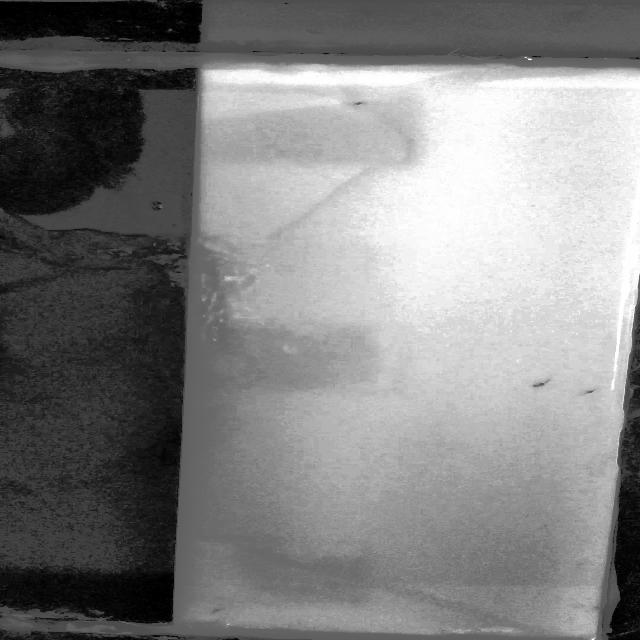shrimp: (522, 375, 559, 391), (345, 97, 377, 110), (579, 388, 610, 398), (203, 607, 233, 616)
